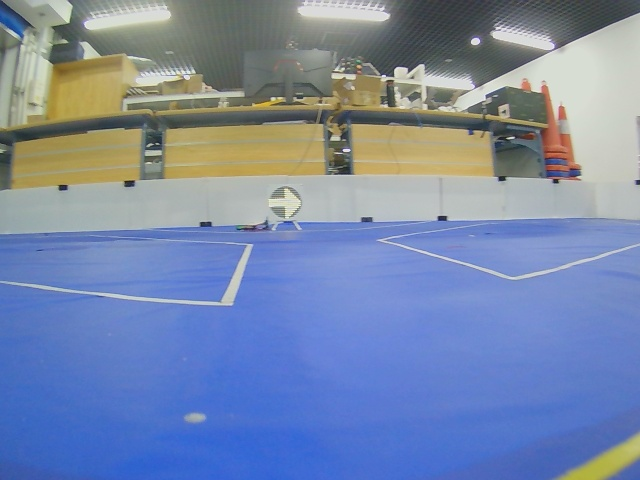right_yellow: (268, 186, 302, 220)
